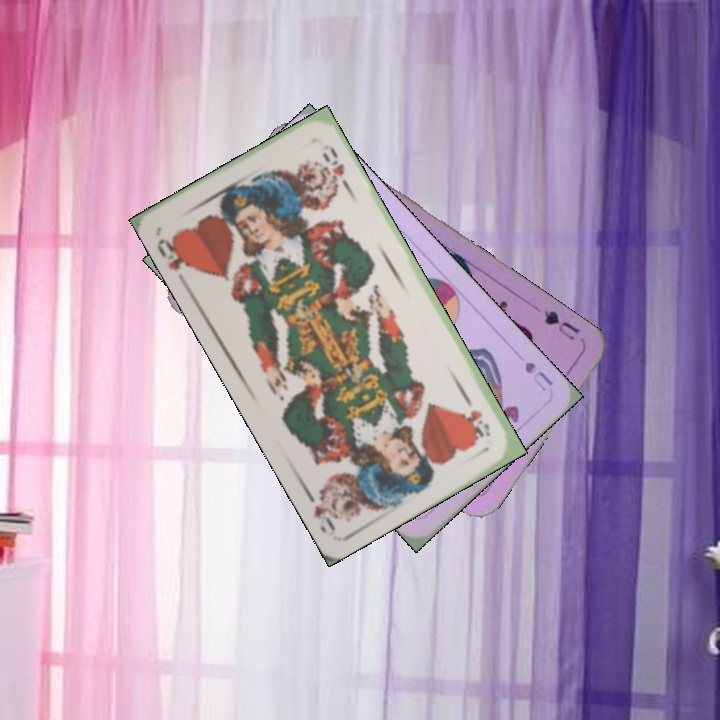GU: (540, 306, 582, 343)
HO: (152, 231, 199, 276), (458, 389, 494, 440)
SU: (520, 357, 556, 394)
